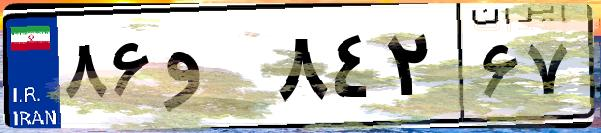2: (385, 28, 445, 110)
4: (330, 28, 385, 110)
6: (475, 38, 525, 113), (110, 28, 158, 98)
7: (525, 38, 570, 115)
8: (270, 28, 330, 110), (57, 26, 110, 100)
و: (158, 20, 270, 120)
